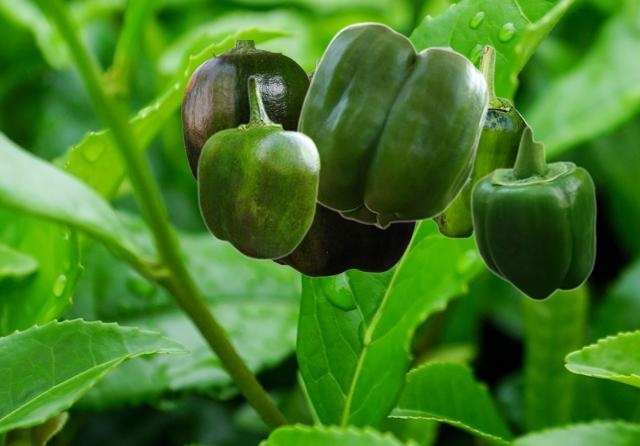bell_pepper: (296, 21, 488, 228), (272, 60, 416, 276), (196, 75, 320, 260), (469, 125, 596, 301), (431, 44, 528, 238), (181, 40, 309, 180)
